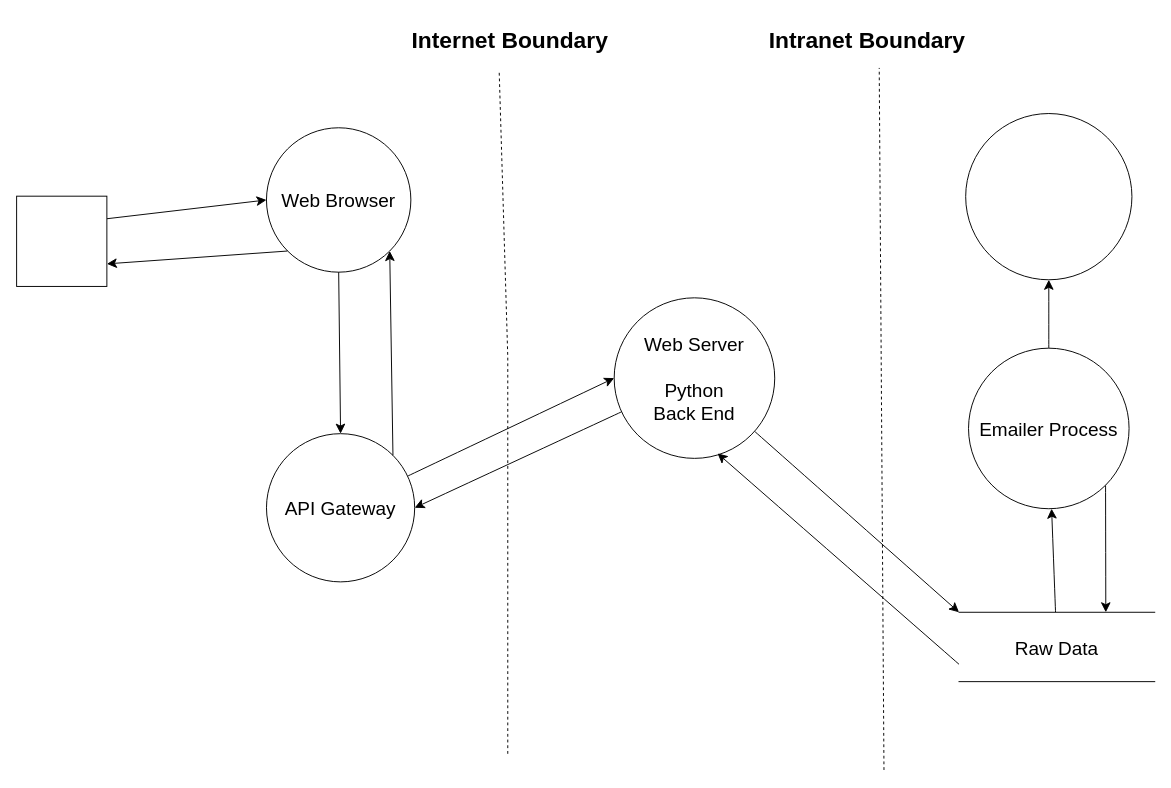
Image size: 1171x788. Some labels were removed from this diagram. Here are the shapes that lost their labels. From the top down, the centre of each, then its label:
At pixel 1048 196: "SMTP Server".
At pixel 61 240: "User".
